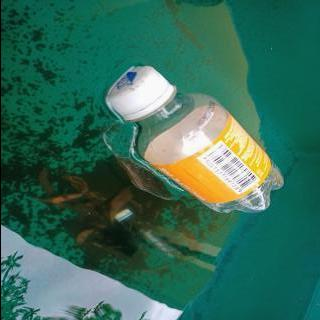bottle: (102, 63, 287, 216)
